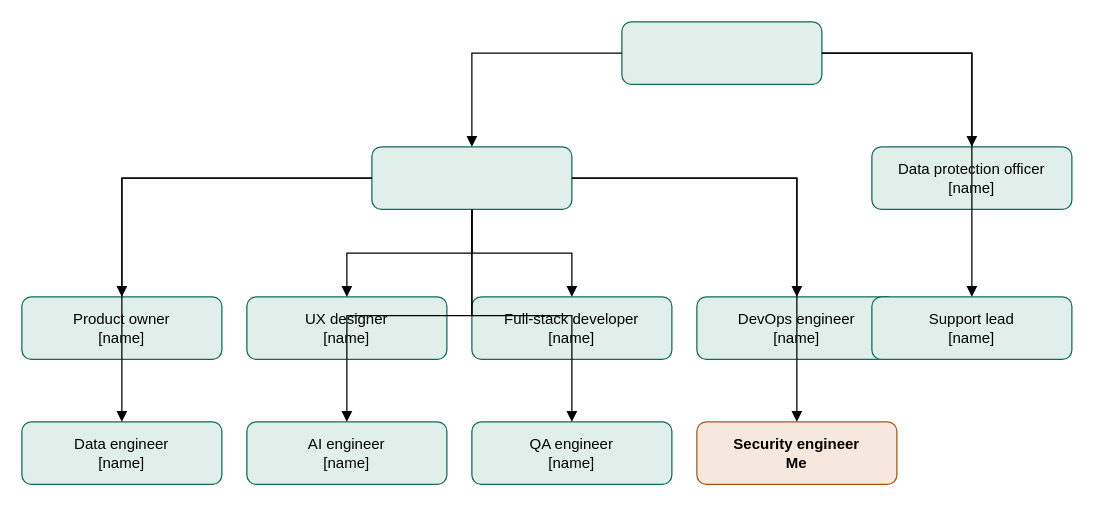
The diagram is 1094 pixels wide and 506 high, and some of its shapes have lost their labels. The centre of each missing label's shape, as x and y in pixels:
"CEO [name]" belongs at (721,52).
"CTO [name]" belongs at (471,177).
